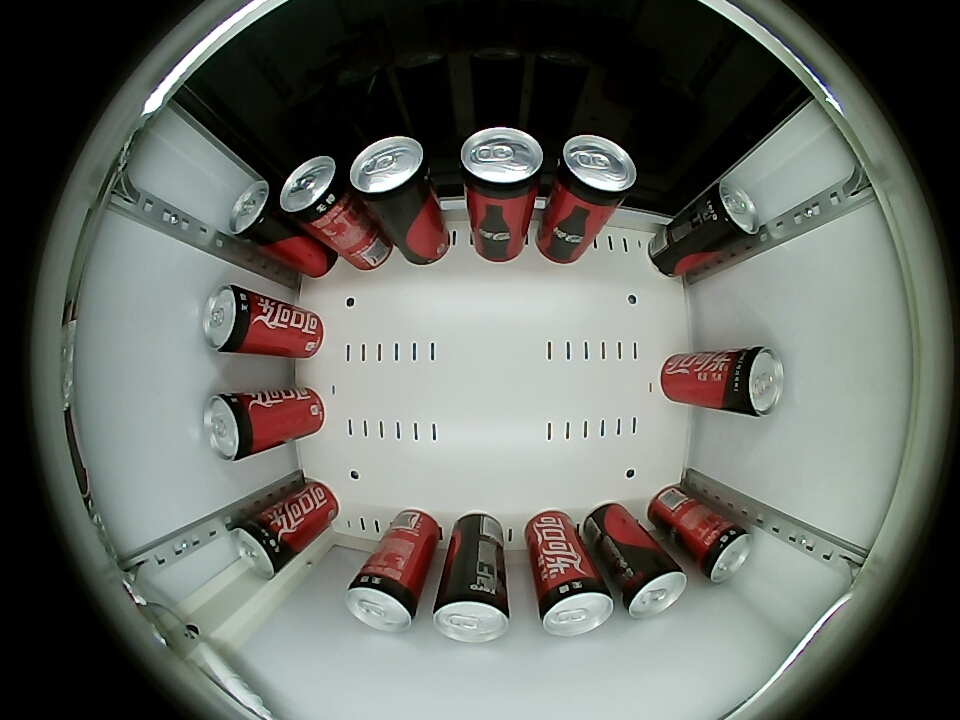lingdukele: (459, 127, 544, 204), (552, 135, 637, 209), (349, 136, 431, 210), (535, 573, 615, 637), (279, 156, 351, 227), (432, 577, 510, 642), (345, 571, 425, 631), (722, 345, 784, 418), (619, 555, 687, 619), (203, 390, 262, 462), (202, 285, 262, 354), (231, 510, 292, 577), (692, 516, 752, 583), (702, 182, 759, 247), (229, 180, 281, 245)
